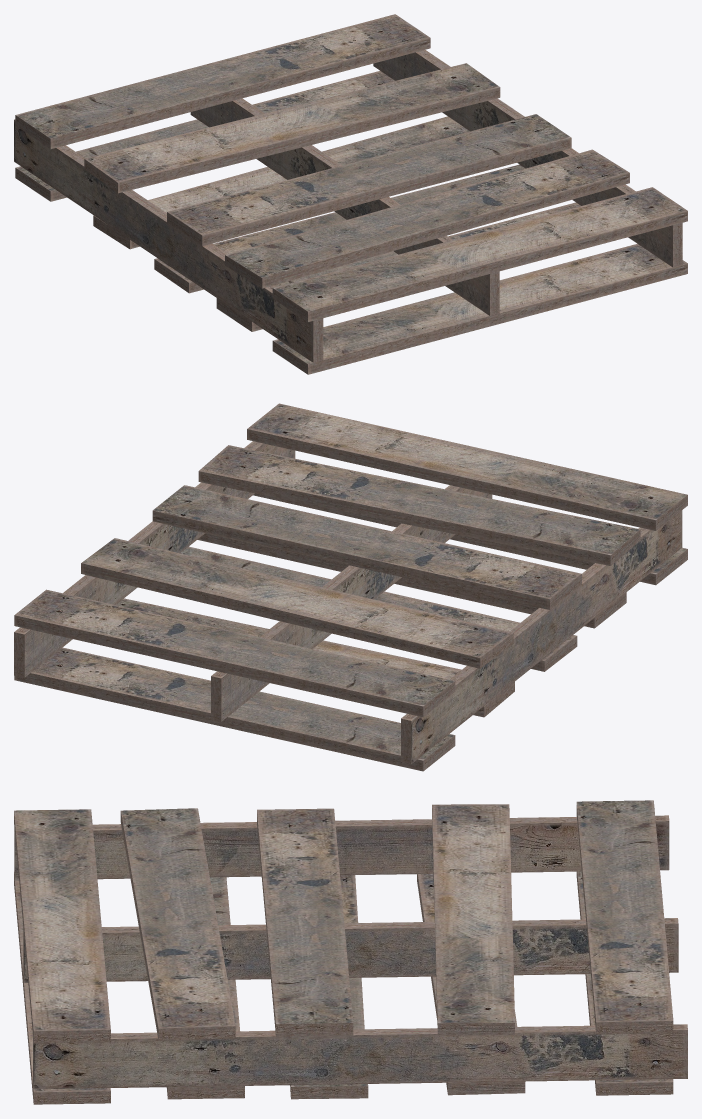
File: Palet_v1_single (4).glb
3 views of the same model, one above another, from view 1: azimuth 30°, elevation 25°; view 2: azimuth 150°, elevation 25°; view 3: azimuth 270°, elevation 25° (orthographic). The views are drawn at different scales.
Visible parts, largest first — view 1: Palet_v1_single (4); view 2: Palet_v1_single (4); view 3: Palet_v1_single (4).
Part boxes in pixels (x1=…): Palet_v1_single (4): x1=14, y1=14, x2=687, y2=374; Palet_v1_single (4): x1=14, y1=403, x2=687, y2=771; Palet_v1_single (4): x1=14, y1=800, x2=687, y2=1104.
Bounding box in the file's own units: 1.46 × 0.2164 × 1.8.
1 material, 1 textured.
